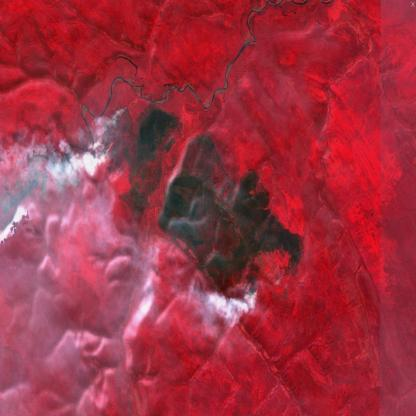fire: (92, 102, 138, 187), (240, 276, 262, 303)
